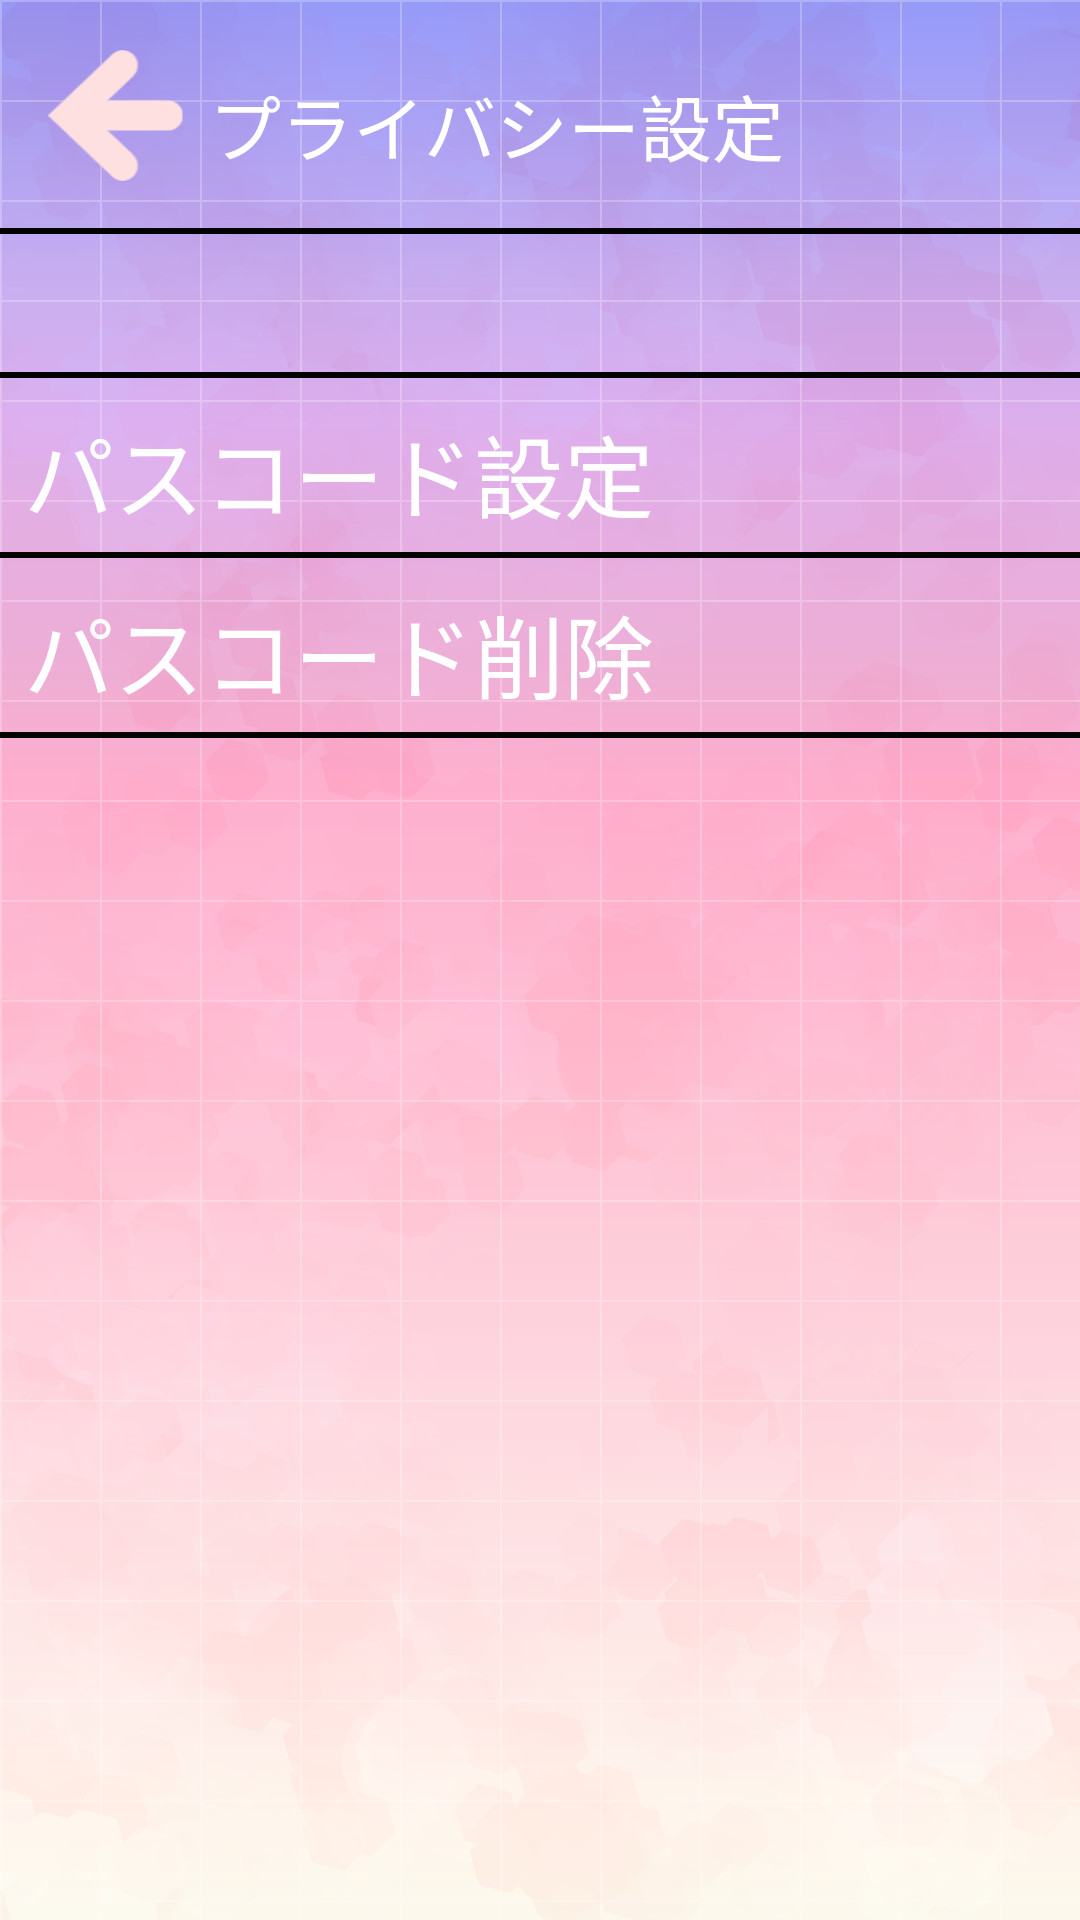

Icon click points for this 1080*1920 phone screenshot, format [x,y]:
backbtn: [115,115]
